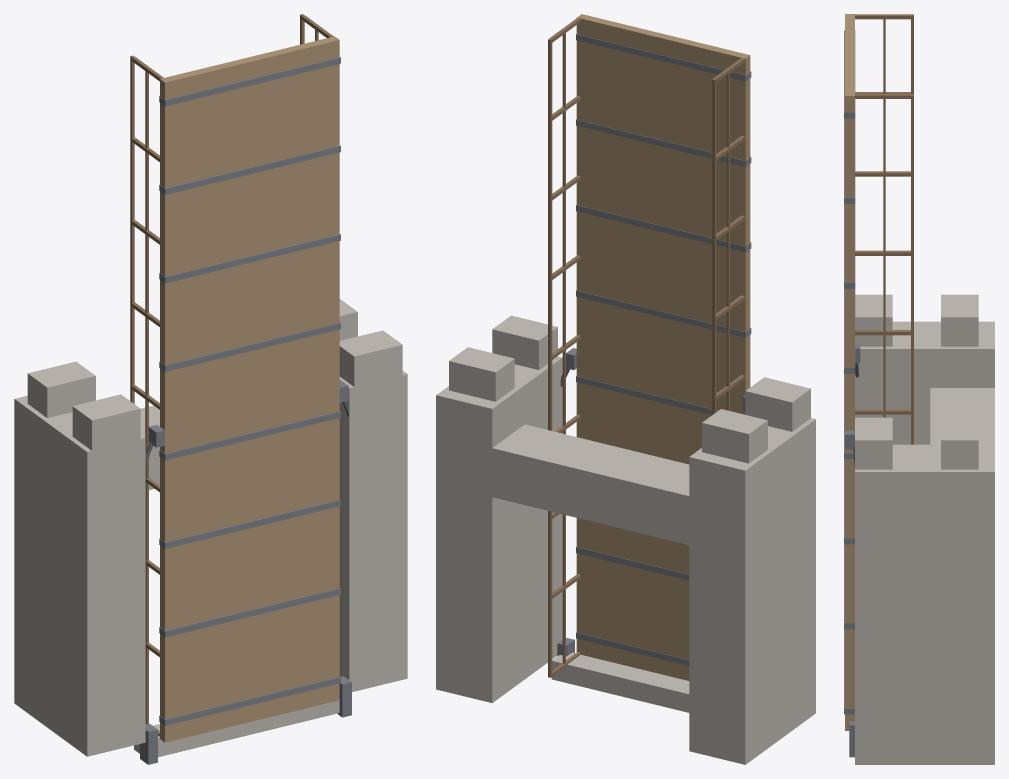
File: chain_drawbridge.glb
3 views of the same model, side by side, from view 1: azimuth 30°, elevation 25°; view 2: azimuth 150°, elevation 25°; view 3: azimuth 270°, elevation 25° (orthographic). The views are drawn at different scales.
Parts seen in each view (by area): view 1: span, bridge; view 2: bridge, span; view 3: bridge, span.
Part boxes in pixels (bbox=[...]): span: bbox=[130, 14, 348, 742]; bridge: bbox=[14, 299, 407, 764]; bridge: bbox=[436, 315, 815, 764]; span: bbox=[548, 14, 751, 680]; bridge: bbox=[849, 294, 994, 764]; span: bbox=[844, 14, 913, 730].
Size of the model in its own units: 6.6 by 13.4 by 2.8.
